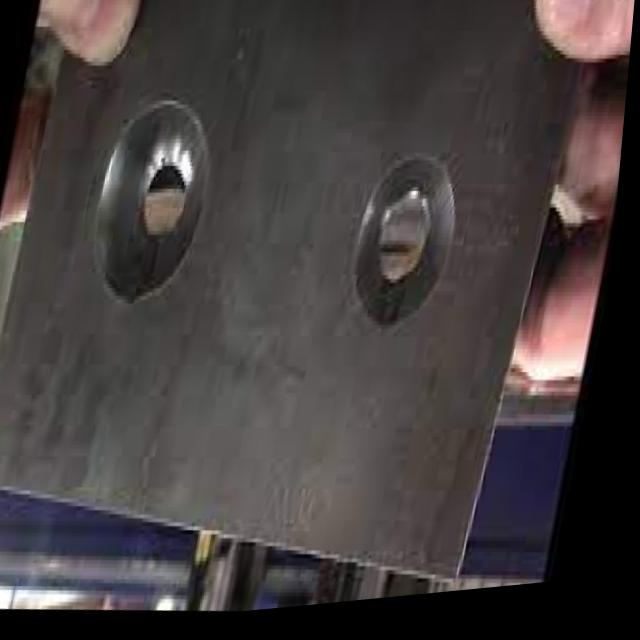holes: (84, 102, 227, 312), (347, 164, 472, 342)
